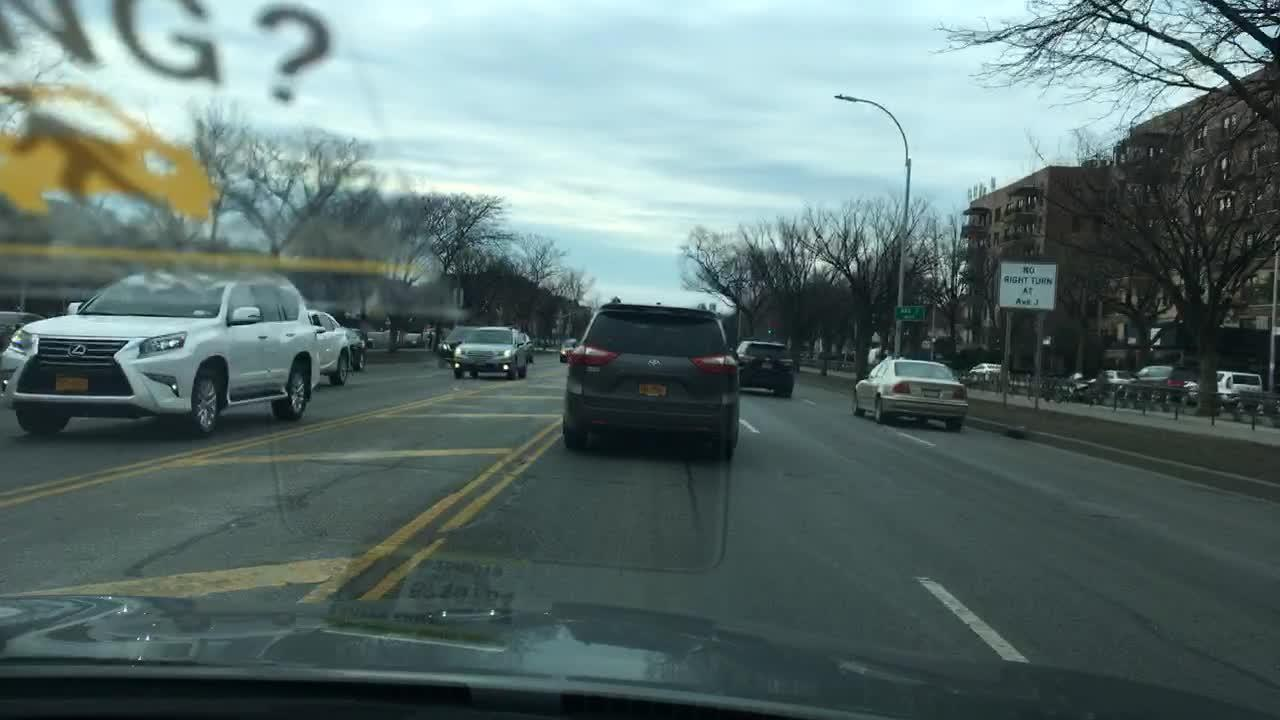Toyota: (646, 357, 663, 371)
lexus: (67, 342, 89, 359)
